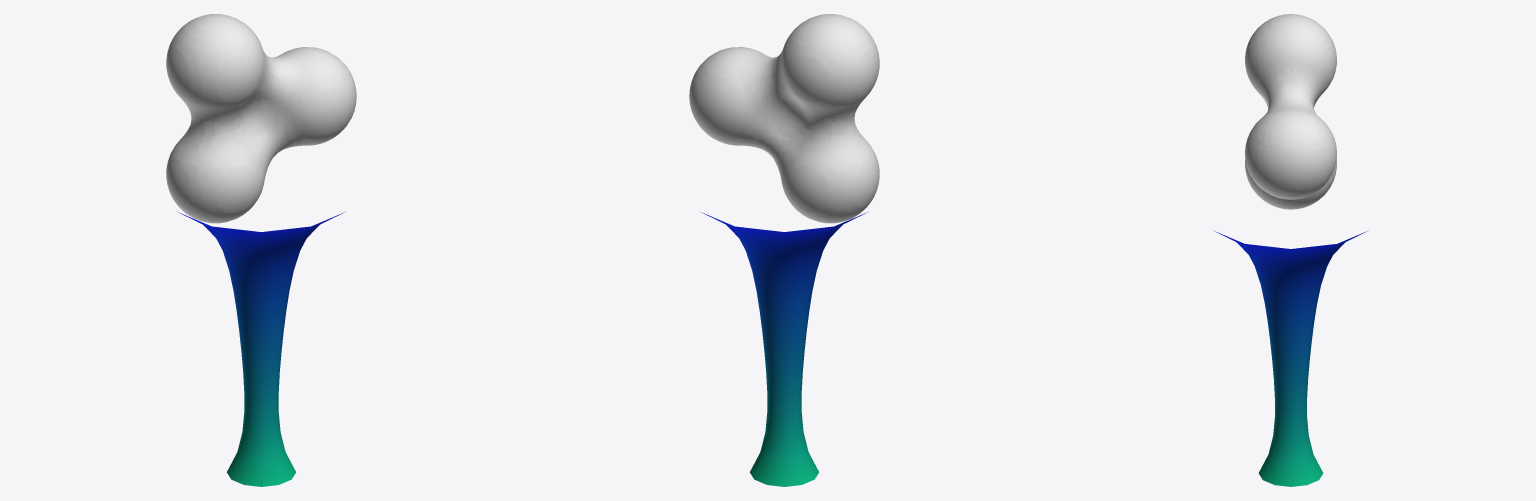
Rendered from station04.glb.
The picture shows the model from 3 angles, left to right: view 1: azimuth 30°, elevation 25°; view 2: azimuth 150°, elevation 25°; view 3: azimuth 270°, elevation 25°; orthographic projection. The views are drawn at different scales.
Parts seen in each view (by area): view 1: station04_out, station04_tube_out; view 2: station04_out, station04_tube_out; view 3: station04_out, station04_tube_out.
Part boxes in pixels (x1,y1,x2,y2): station04_out: (166,14,356,223); station04_tube_out: (178,212,344,486); station04_out: (689,14,879,223); station04_tube_out: (701,212,867,486); station04_out: (1245,14,1336,209); station04_tube_out: (1213,230,1368,486).
Size of the model in its own units: 1060 by 1099 by 1060.
Materials: 1 (1 with a texture image).
